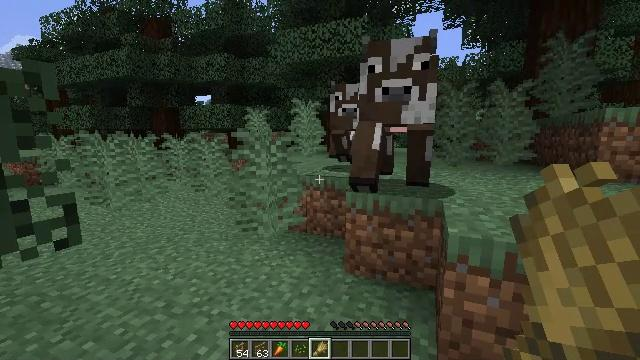cow: (353, 37, 432, 187), (329, 82, 366, 168)
